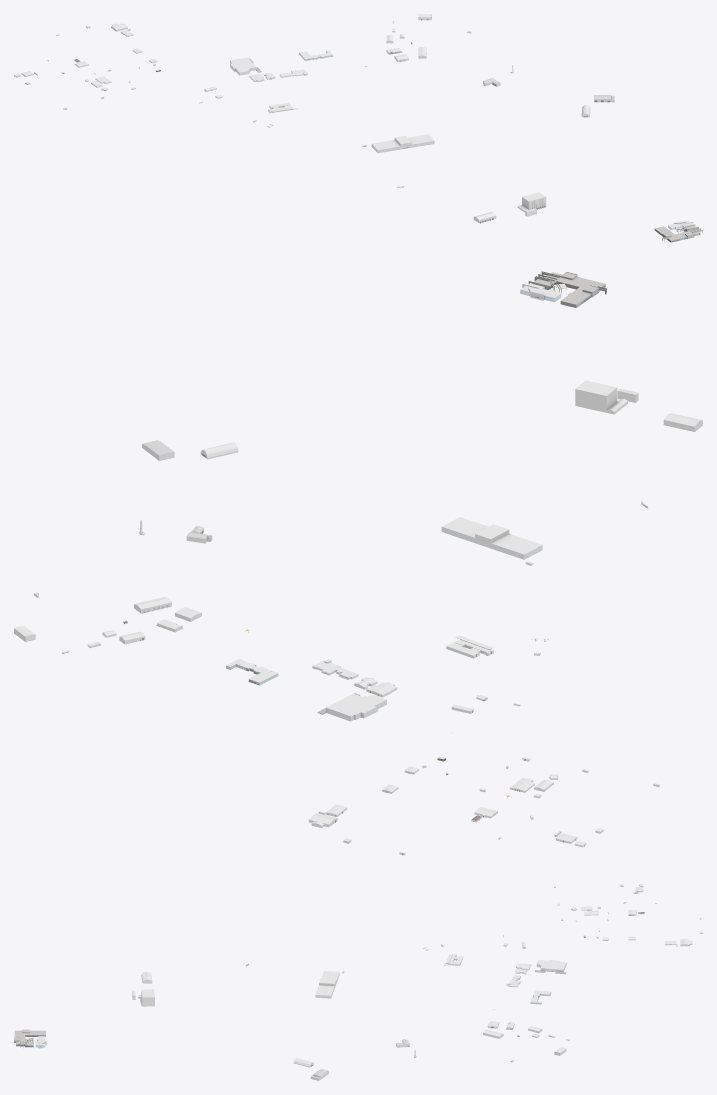
Rendered from NEOM-Camp.glb.
The picture shows the model from 3 angles, top to bottom: view 1: azimuth 30°, elevation 25°; view 2: azimuth 150°, elevation 25°; view 3: azimuth 270°, elevation 25°; orthographic projection. The views are drawn at different scales.
Parts seen in each view (by area): view 1: School 2.001, controlcenter, 2.001, Neom120; view 2: School 2.001, controlcenter, 2.001, Neom120; view 3: School 2.001, controlcenter, Neom120.
Part boxes in pixels (x1,y1,x2,y2): School 2.001: [371, 134, 434, 153]; controlcenter: [654, 224, 702, 242]; 2.001: [517, 192, 546, 212]; Neom120: [230, 57, 261, 75]; School 2.001: [441, 517, 542, 559]; controlcenter: [528, 271, 606, 307]; 2.001: [575, 380, 627, 414]; Neom120: [317, 693, 386, 721]; School 2.001: [315, 971, 339, 998]; controlcenter: [14, 1029, 45, 1047]; Neom120: [534, 960, 566, 974].
Bounding box in the file's own units: 1454 × 31.69 × 2160.
65 materials, 65 textured.
